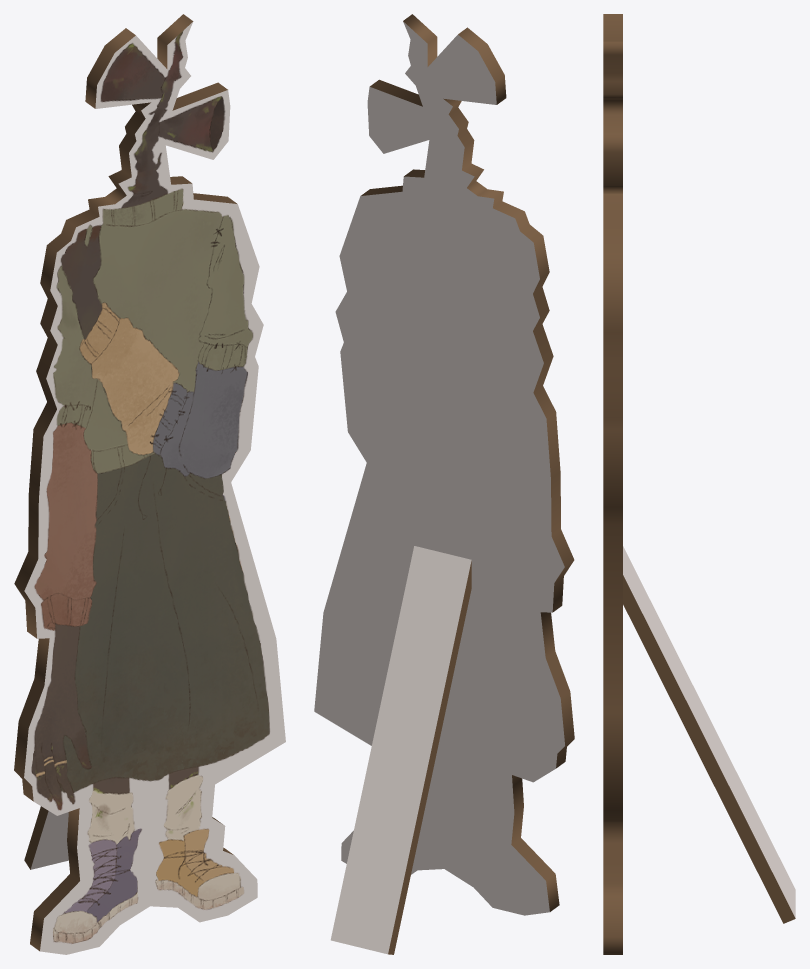
File: HesaFrida_Happy.fbx
The picture shows the model from 3 angles, left to right: view 1: azimuth 30°, elevation 25°; view 2: azimuth 150°, elevation 25°; view 3: azimuth 270°, elevation 25°; orthographic projection. The views are drawn at different scales.
Parts seen in each view (by area): view 1: HesaFrida_Happy; view 2: HesaFrida_Happy; view 3: HesaFrida_Happy.
Boxes of the visible parts, x1,y1,x2,y2 form: HesaFrida_Happy: [14, 14, 285, 954]; HesaFrida_Happy: [314, 14, 574, 954]; HesaFrida_Happy: [603, 14, 795, 954].
Bounding box in the file's own units: 60.74 × 200 × 39.1.
